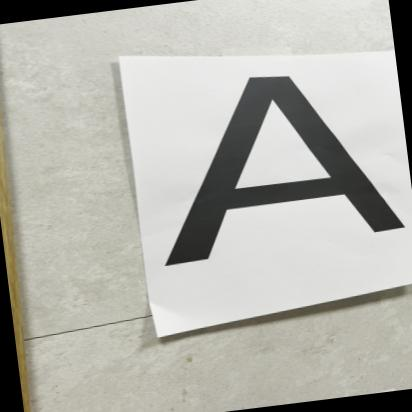seat: (124, 41, 412, 302)
